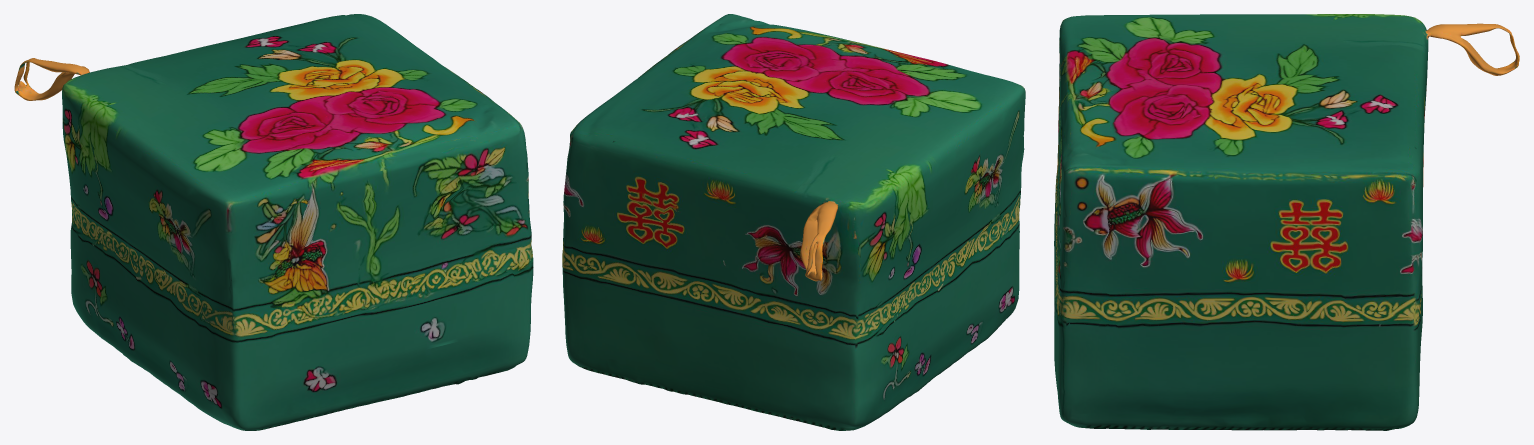
Rendered from dundun4.glb.
3 views of the same model, side by side, from view 1: azimuth 30°, elevation 25°; view 2: azimuth 150°, elevation 25°; view 3: azimuth 270°, elevation 25° (orthographic). The views are drawn at different scales.
Parts seen in each view (by area): view 1: tripo_node_45c75a06; view 2: tripo_node_45c75a06; view 3: tripo_node_45c75a06.
Part boxes in pixels (x1,y1,x2,y2): tripo_node_45c75a06: (14, 14, 533, 430); tripo_node_45c75a06: (562, 14, 1025, 430); tripo_node_45c75a06: (1054, 14, 1519, 430).
Size of the model in its own units: 0.8634 by 0.6445 by 0.9994.
Materials: 1 (1 with a texture image).
